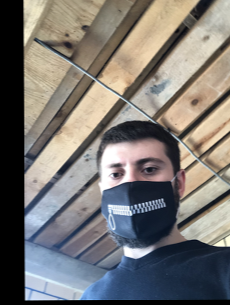with_mask: (99, 150, 176, 247)
